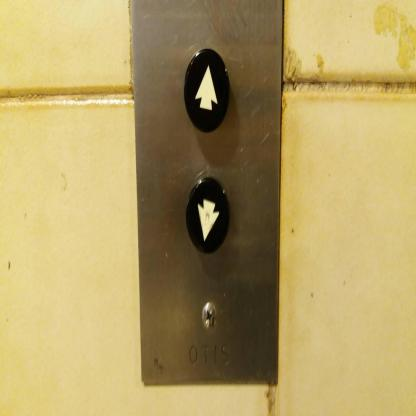down: (186, 176, 230, 255)
up: (183, 48, 230, 133)
